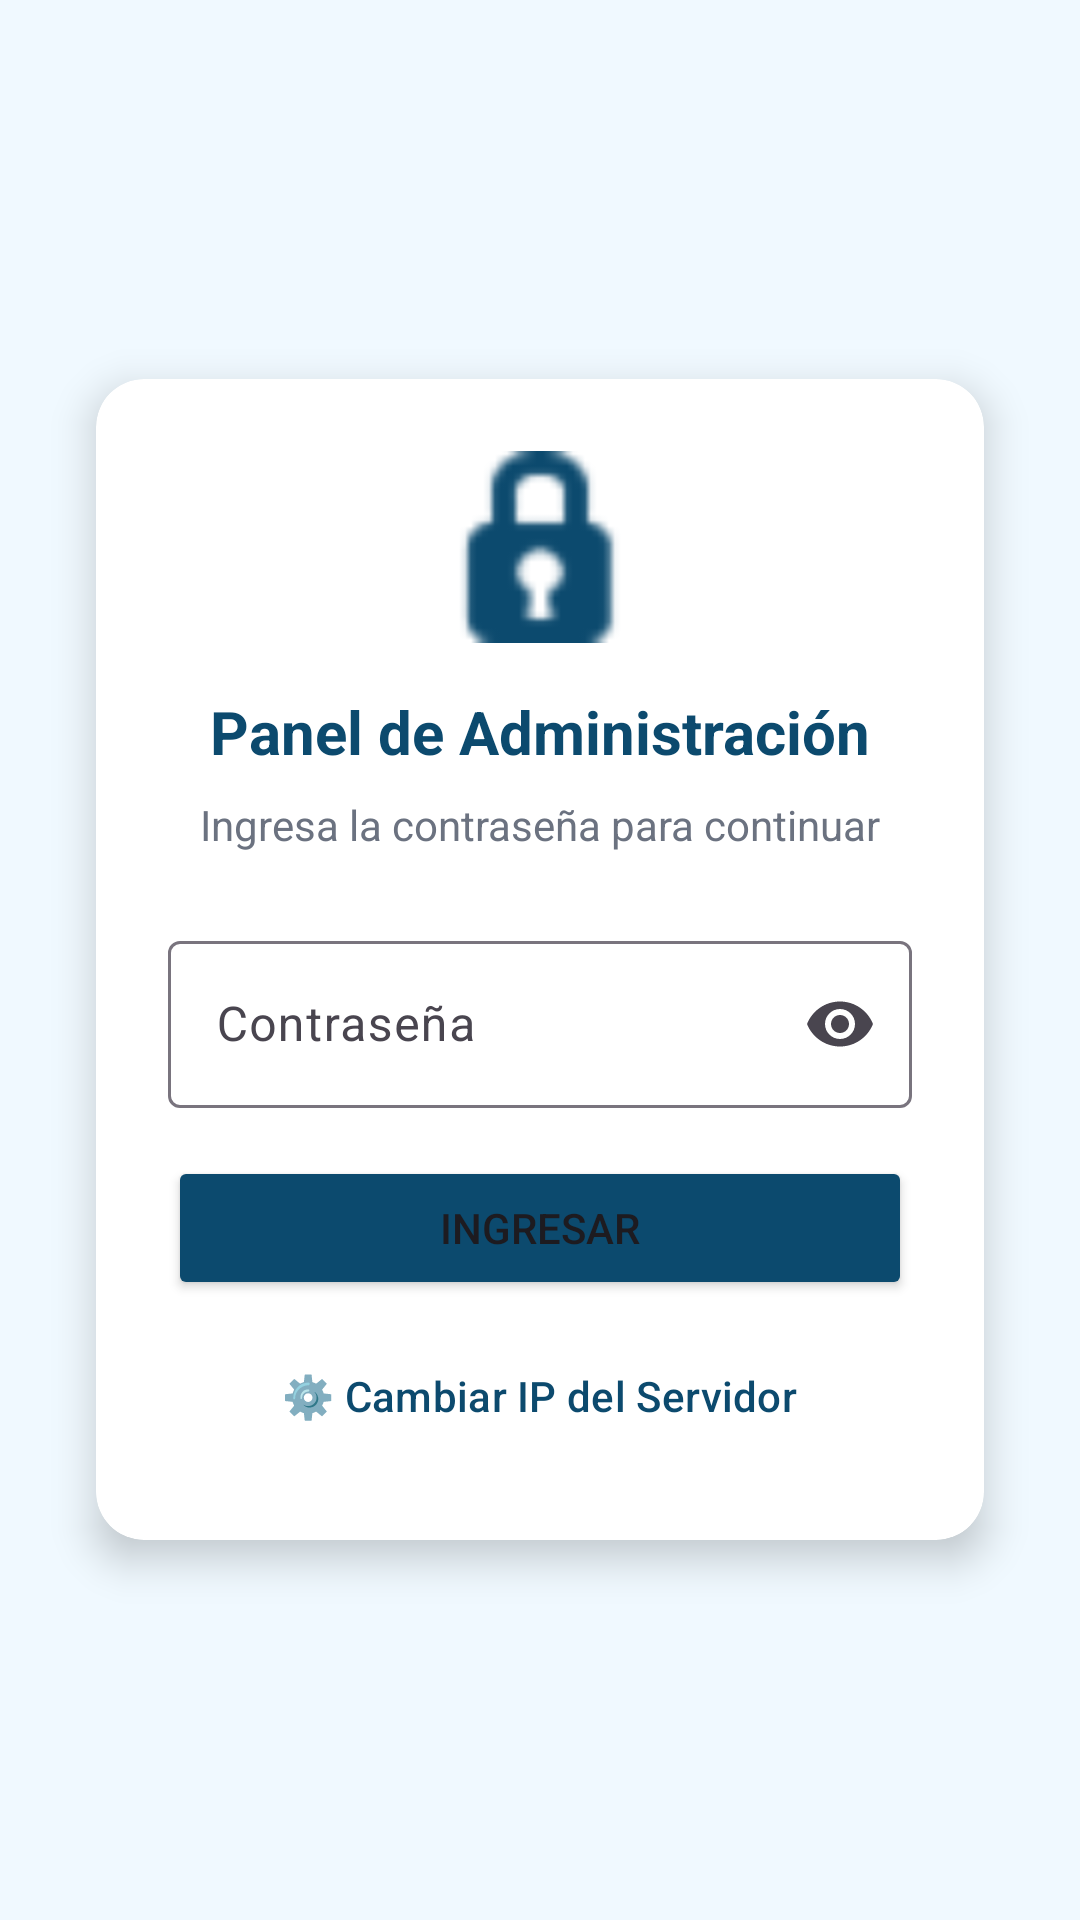

Screen size 1080*1920. Icon name, then its center in pixels as (x=x, y=y):
secure: (x=539, y=547)
